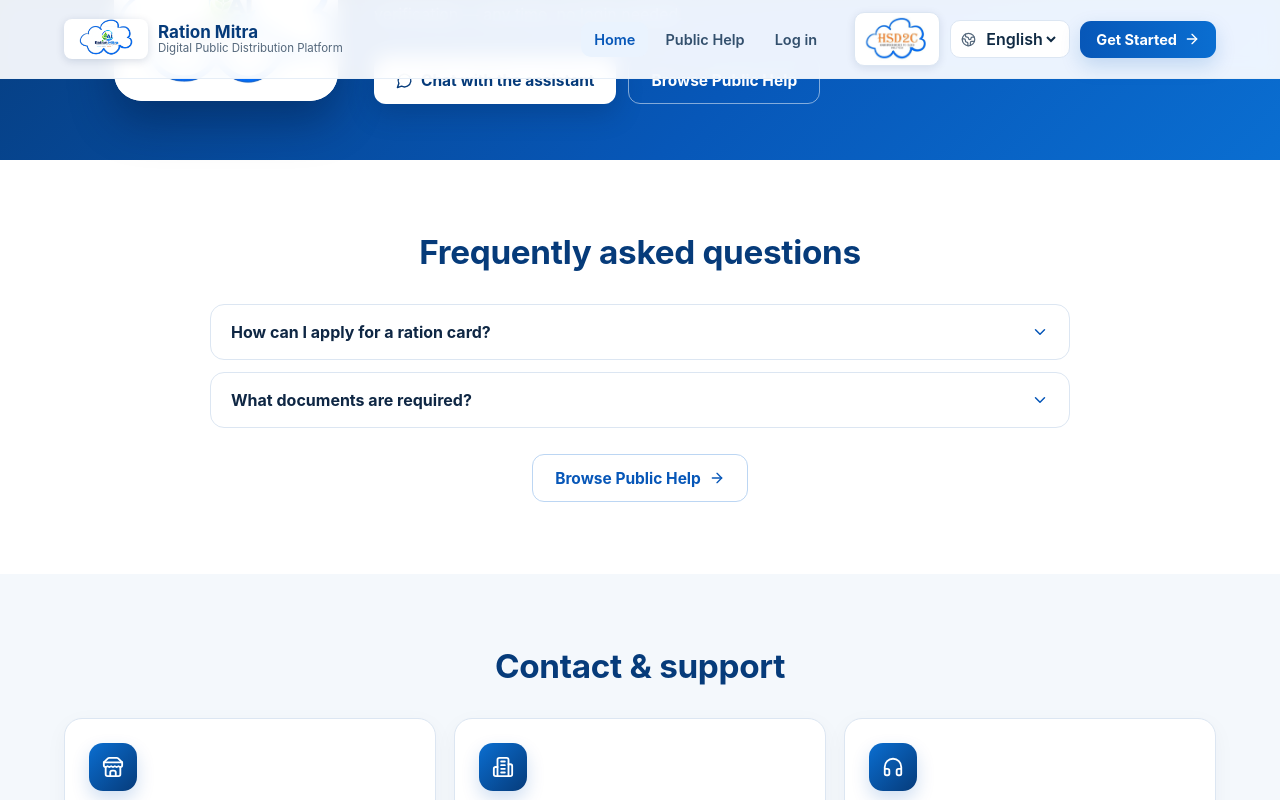
Test: landing page › loads FAQ answers from the help service on demand
(page scrolled)
Click the button "What documents are required?" at [351, 400], box [211,373,1069,427]
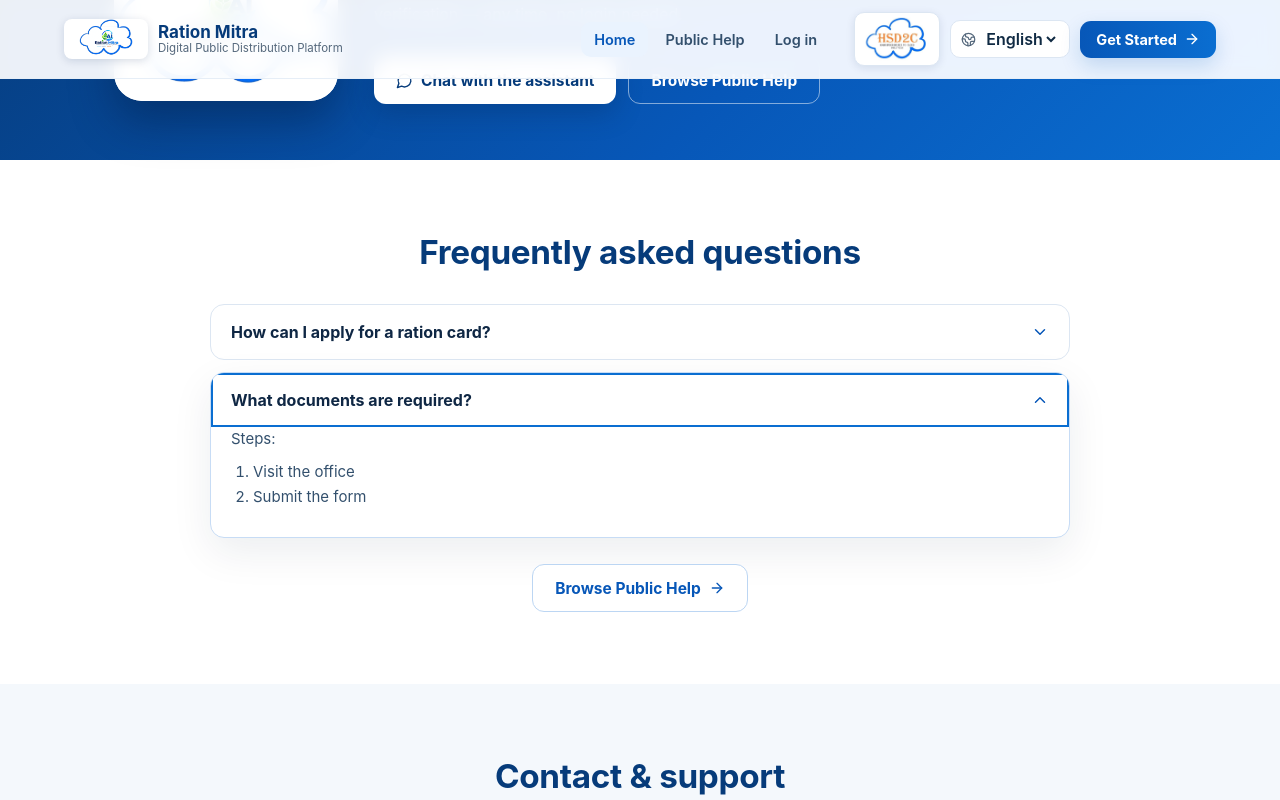
Check: the button "What documents are required?" is expanded, box [211,373,1069,427]
Check: the list item "Visit the office" is shown, box [253,462,355,481]
